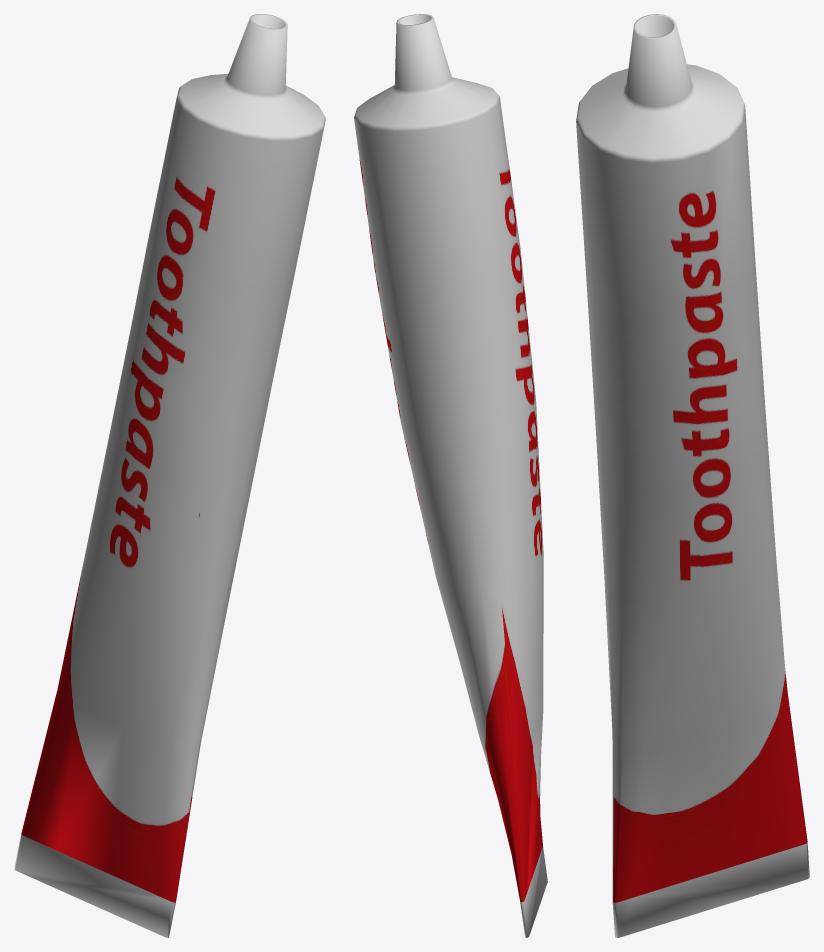
File: toothpaste.glb
3 views of the same model, side by side, from view 1: azimuth 30°, elevation 25°; view 2: azimuth 150°, elevation 25°; view 3: azimuth 270°, elevation 25° (orthographic). The views are drawn at different scales.
Visible parts, largest first — view 1: Toothpaste.001; view 2: Toothpaste.001; view 3: Toothpaste.001.
Boxes of the visible parts, left/top/right/bottom form: Toothpaste.001: left=14, top=14, right=325, bottom=937; Toothpaste.001: left=354, top=14, right=547, bottom=937; Toothpaste.001: left=576, top=14, right=809, bottom=937.
Size of the model in its own units: 0.0683 by 0.2433 by 0.0527.
1 material, 1 textured.
